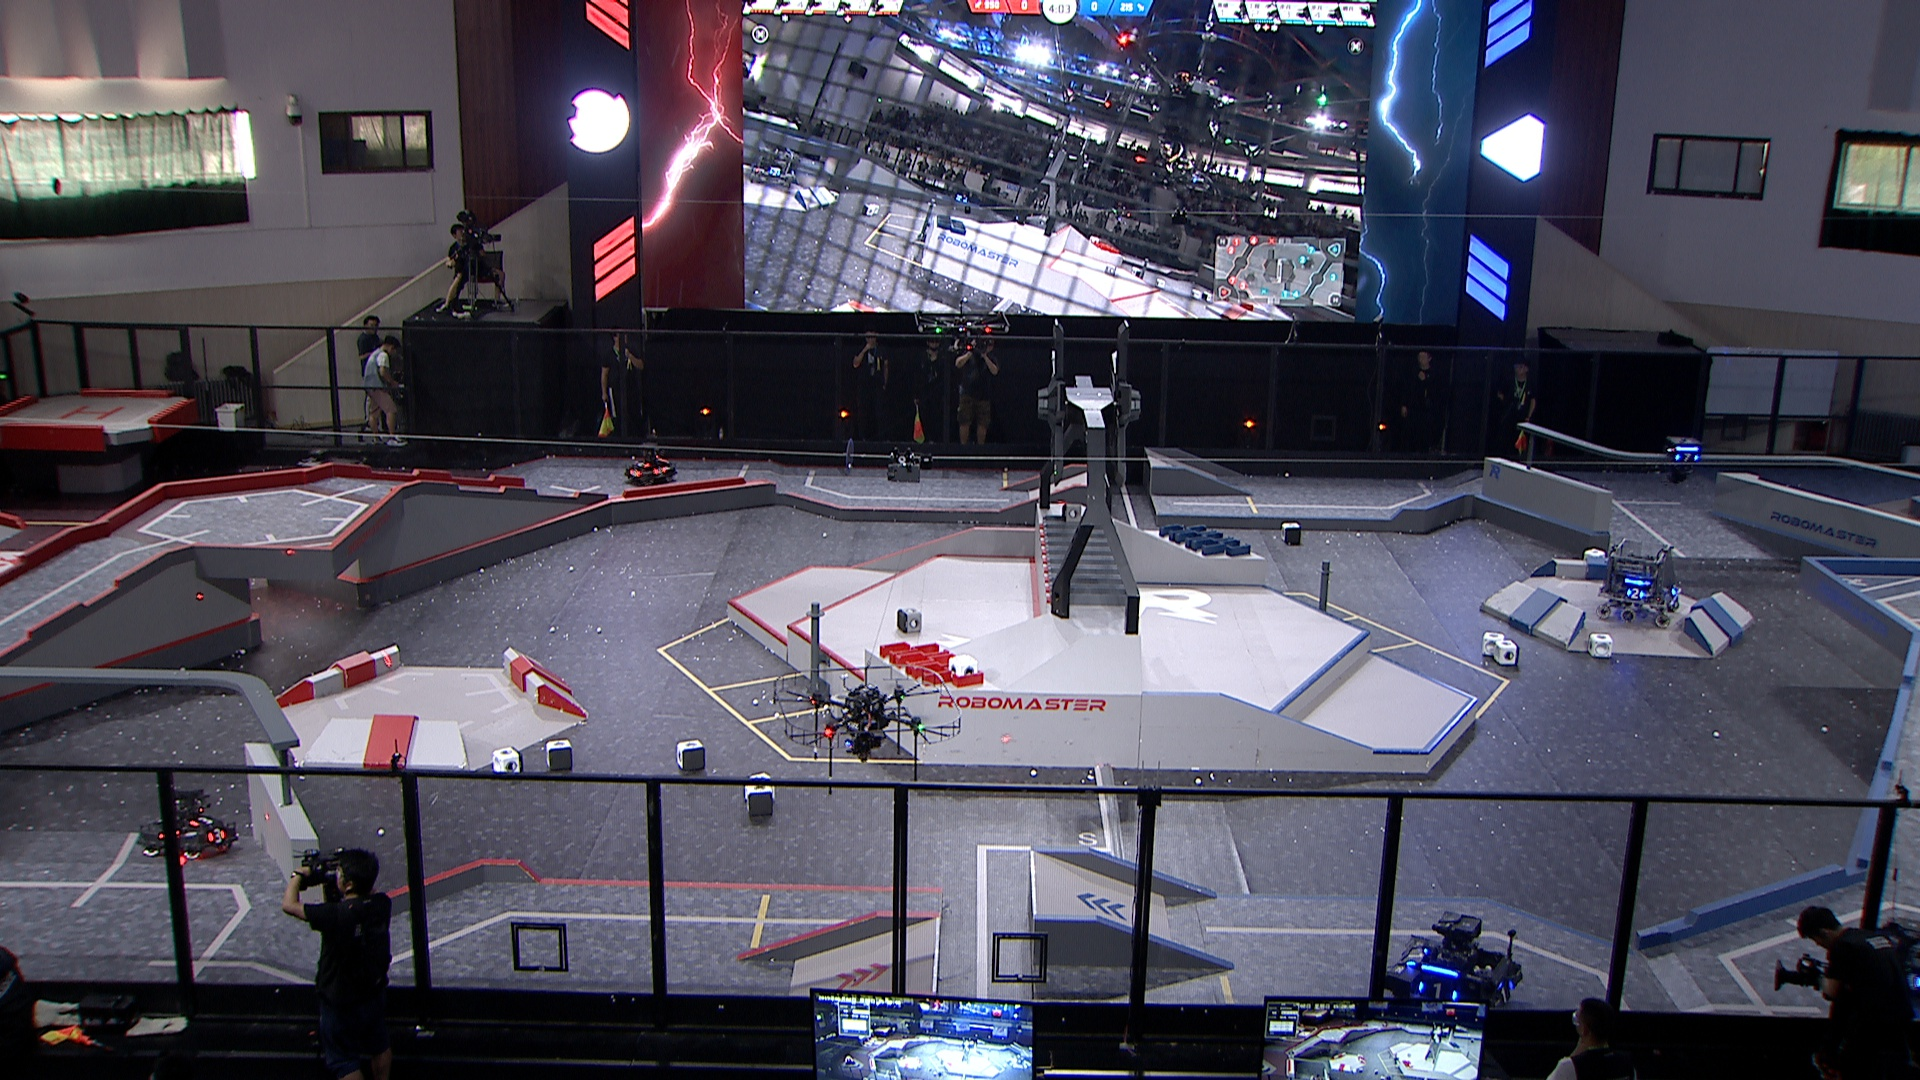armor: (1416, 978, 1461, 1005), (1493, 982, 1515, 1006), (1406, 945, 1429, 968), (206, 828, 229, 847), (187, 815, 219, 828), (1673, 452, 1702, 465), (1627, 588, 1646, 603), (1905, 972, 1920, 989), (651, 465, 669, 476), (633, 462, 651, 471), (628, 469, 644, 479)
car: (1375, 909, 1524, 1015), (136, 785, 240, 862), (1598, 537, 1681, 626), (1855, 922, 1920, 1002), (622, 440, 678, 488)
ignore: (752, 148, 799, 187)
watcher: (1662, 436, 1705, 481)
